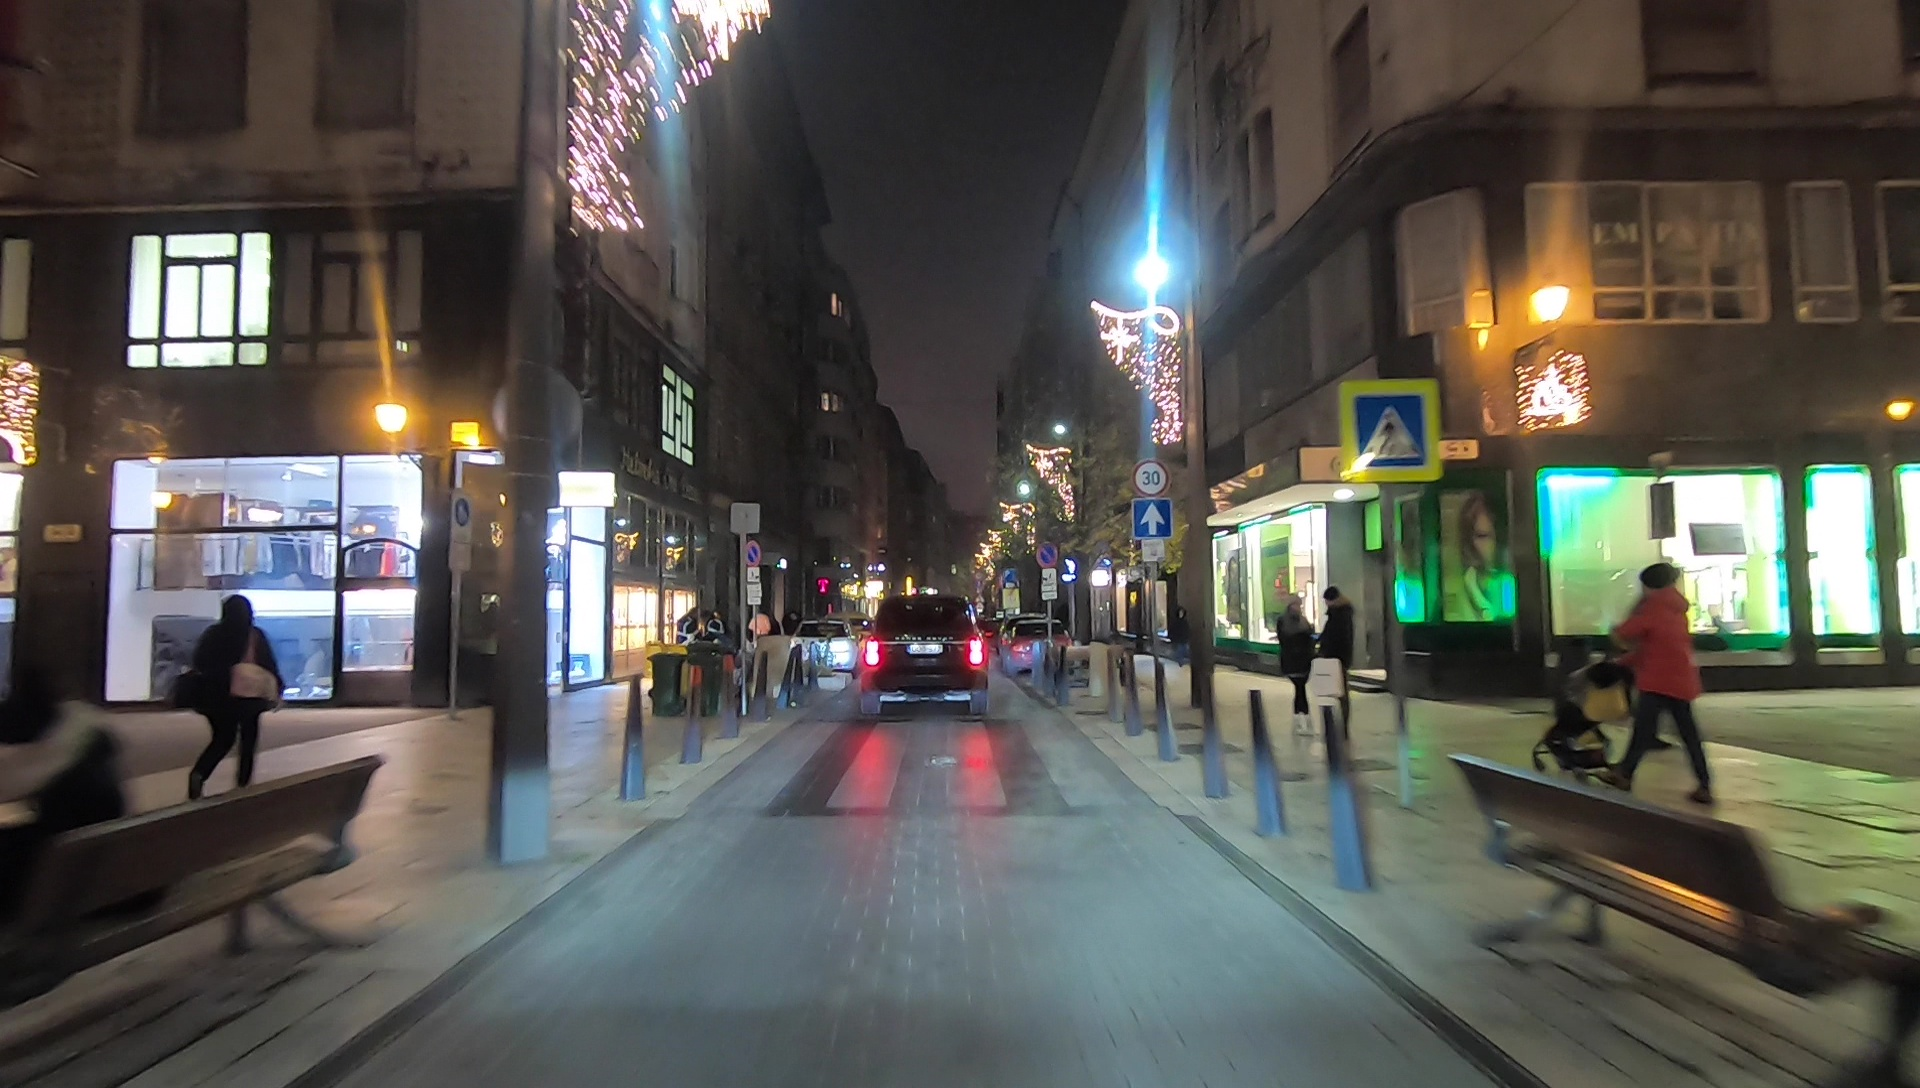person: (1606, 565, 1721, 802), (188, 599, 275, 810), (1275, 595, 1315, 730), (1321, 589, 1360, 726)
